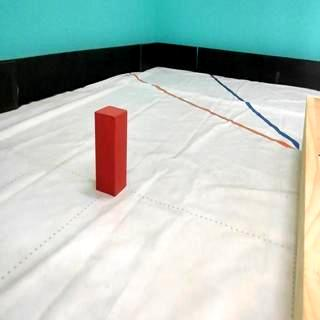redbox: (94, 104, 128, 197)
